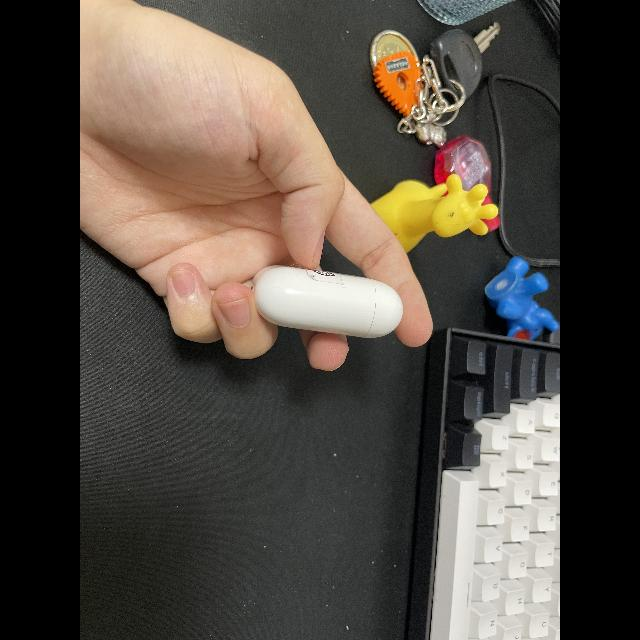airpod2: (246, 248, 408, 350)
